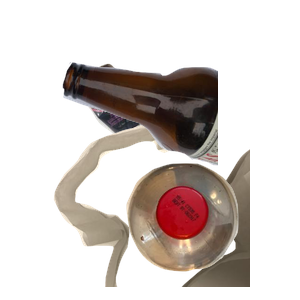glass: (60, 59, 300, 217)
metal: (77, 61, 222, 191)
plastic: (124, 161, 300, 300)
trash: (51, 120, 291, 300)
